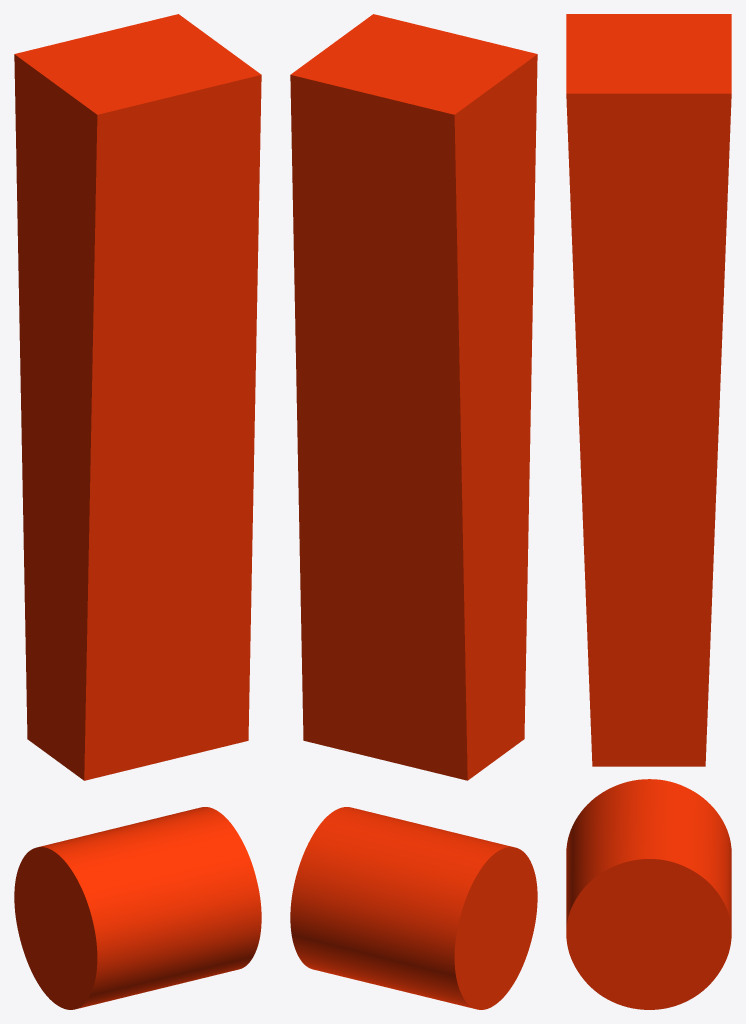
Rendered from clear.fbx.
3 views of the same model, side by side, from view 1: azimuth 30°, elevation 25°; view 2: azimuth 150°, elevation 25°; view 3: azimuth 270°, elevation 25° (orthographic).
Visible parts, largest first — view 1: TextPlus001; view 2: TextPlus001; view 3: TextPlus001.
Part boxes in pixels (box(x1,y1,x2,y2)): TextPlus001: box(14, 14, 261, 1009); TextPlus001: box(290, 14, 537, 1009); TextPlus001: box(566, 14, 731, 1009).
Bounding box in the file's own units: 3.7 × 19.79 × 3.24.
